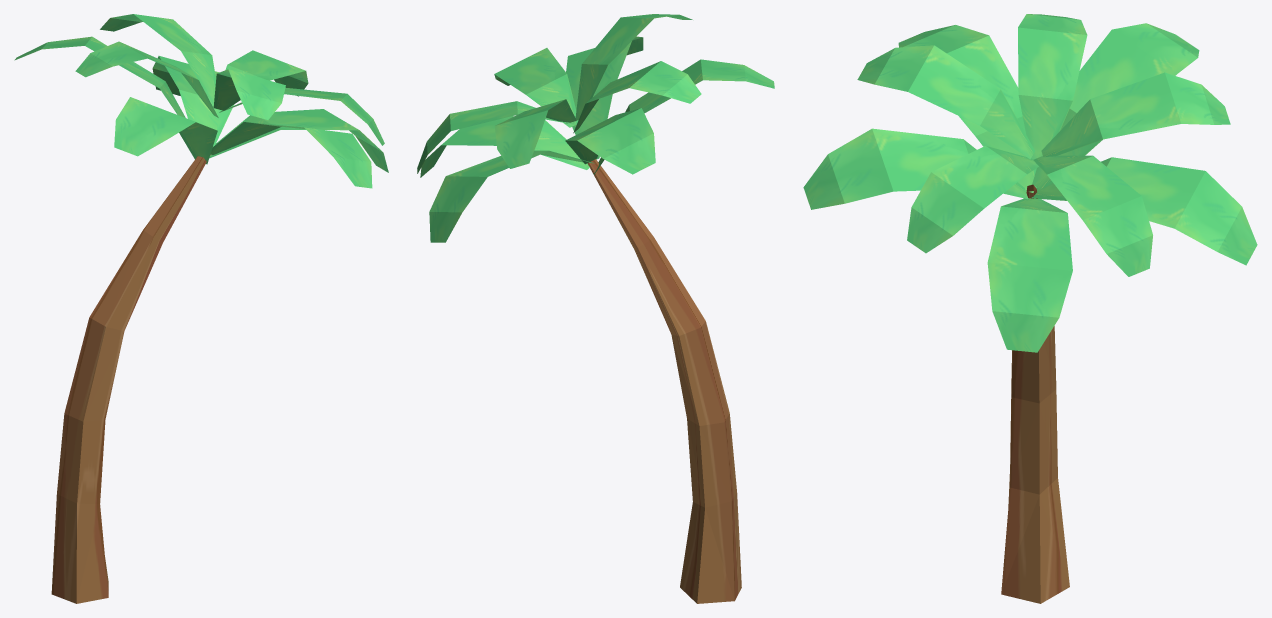
Rendered from palm_tree.obj.
The picture shows the model from 3 angles, left to right: view 1: azimuth 30°, elevation 25°; view 2: azimuth 150°, elevation 25°; view 3: azimuth 270°, elevation 25°; orthographic projection. The views are drawn at different scales.
Visible parts, largest first — view 1: palm_tree; view 2: palm_tree; view 3: palm_tree.
Boxes of the visible parts, bbox=[...] form: palm_tree: bbox=[14, 14, 388, 603]; palm_tree: bbox=[417, 14, 774, 603]; palm_tree: bbox=[803, 14, 1257, 603].
Bounding box in the file's own units: 3.64 × 5.7 × 3.91.
